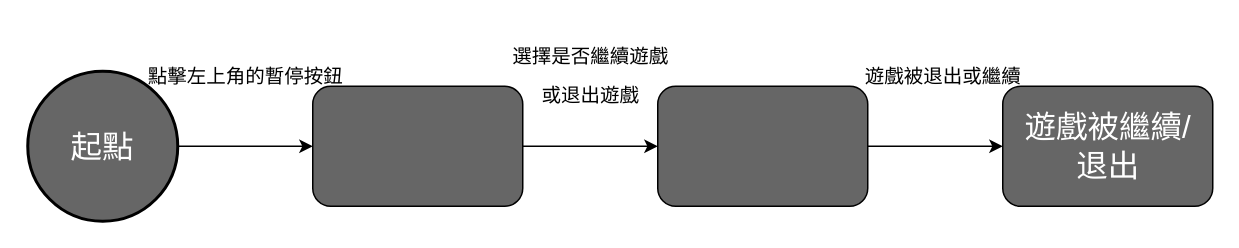
Image size: 1239x248. Some labels were removed from this diagram. The shapes that lost their labels are listed below. From the top down, each one's box as (x1, y1, x2, y2) in pixels, then its label:
(311, 85, 523, 206): 暫停遊戲
(656, 85, 868, 206): 選擇退出 /繼續遊戲
